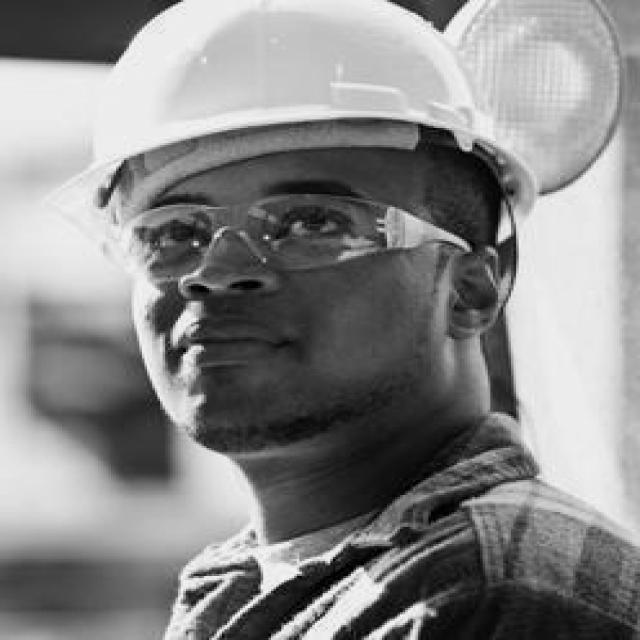face_nomask: (124, 143, 433, 452)
glasses: (114, 191, 434, 285)
head_helmet: (34, 2, 508, 211)
person: (60, 2, 624, 640)
